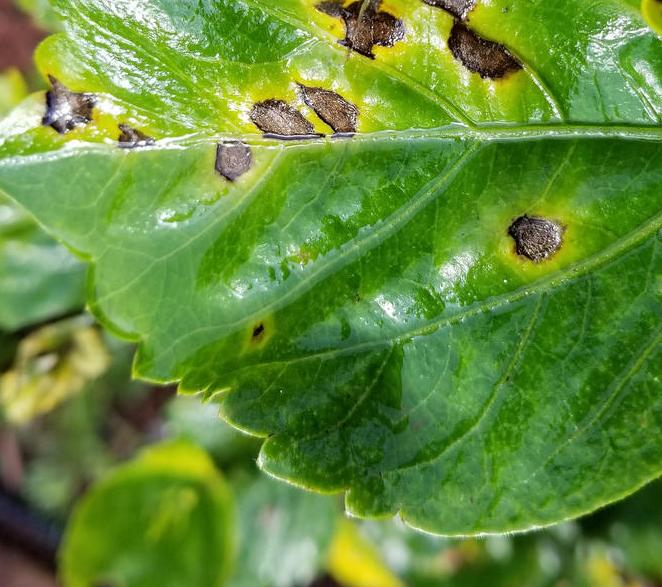Tomato leaf bacterial spot: (0, 0, 662, 549)
